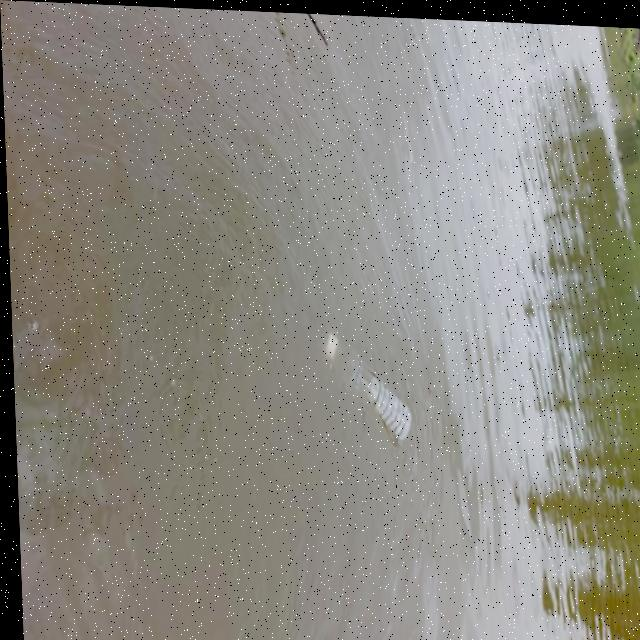waterbottle: (304, 319, 422, 438)
